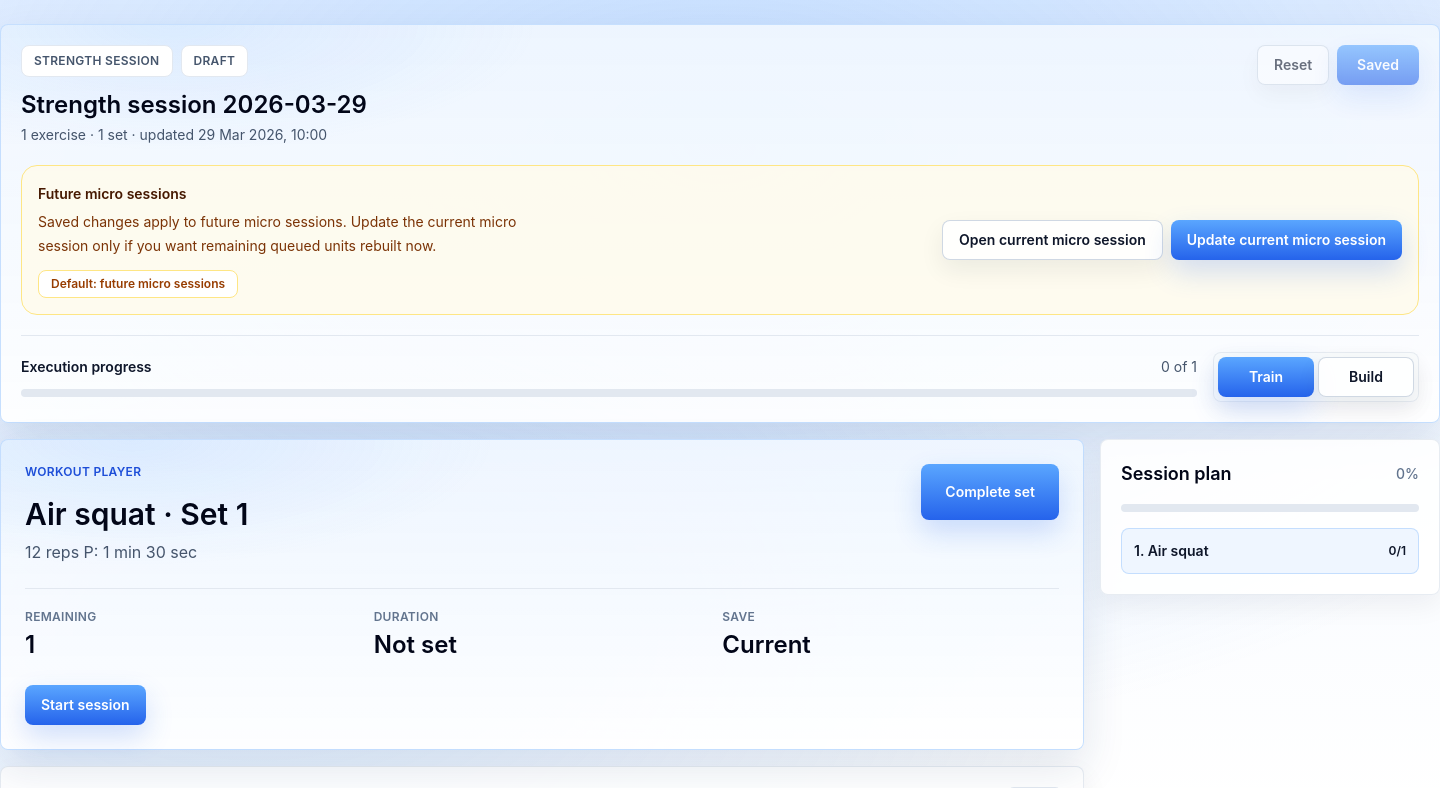
Test: DrylandBuilderHub › warns when a saved session feeds the active micro session and can update current queued units
This screenshot has width=1440, height=788.
Expected: the message with test id "dryland-source-impact-warning" shows "Saved changes apply to future micro sessions", [38, 213, 516, 254]
Expected: the text "Default: future micro sessions" is shown, [38, 270, 238, 298]
Click the button with test id "dryland-update-current-micro-session" at (1286, 240), box [1171, 220, 1402, 260]
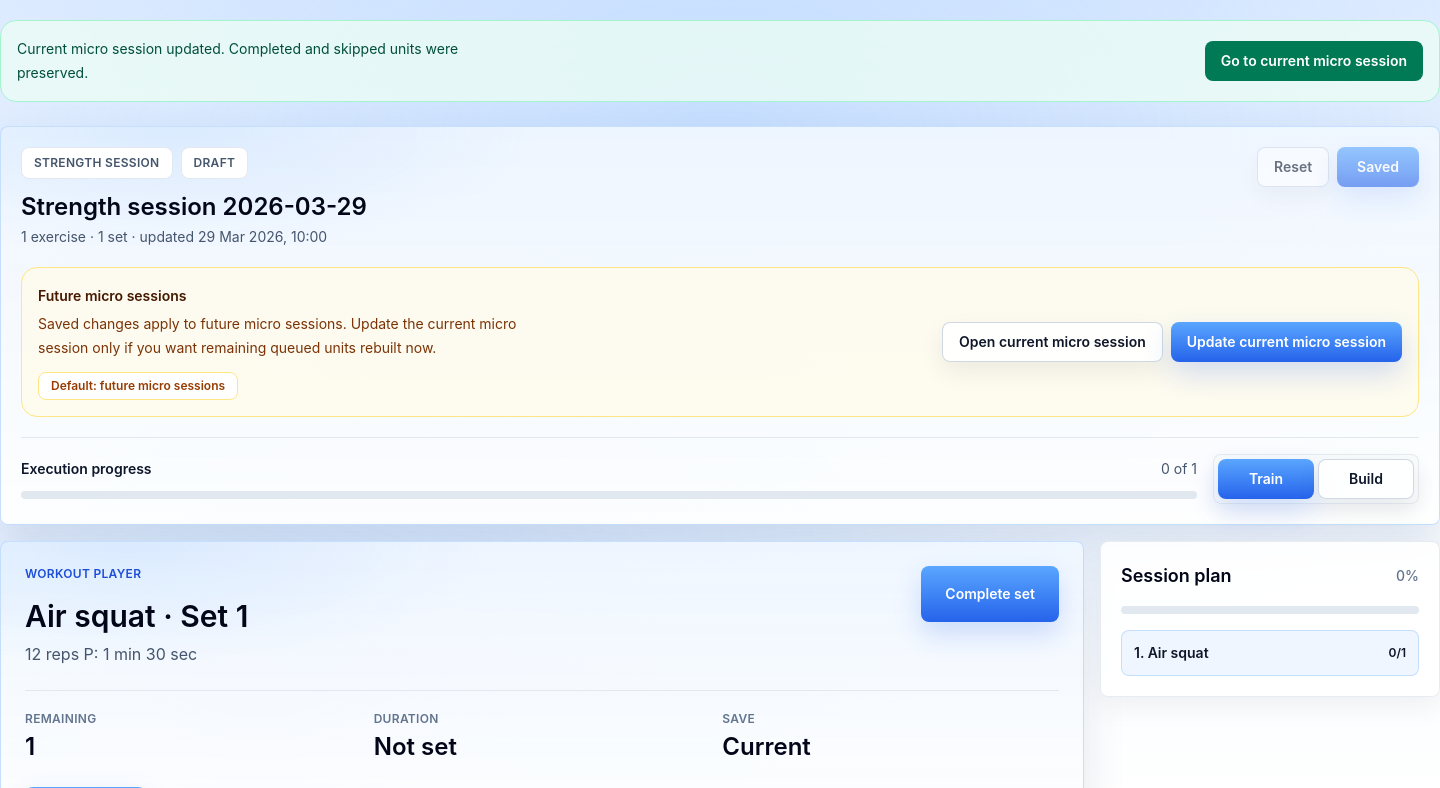
Expected: the text "Current micro session updated. Completed and skipped units were preserved." is shown, [17, 37, 529, 85]
